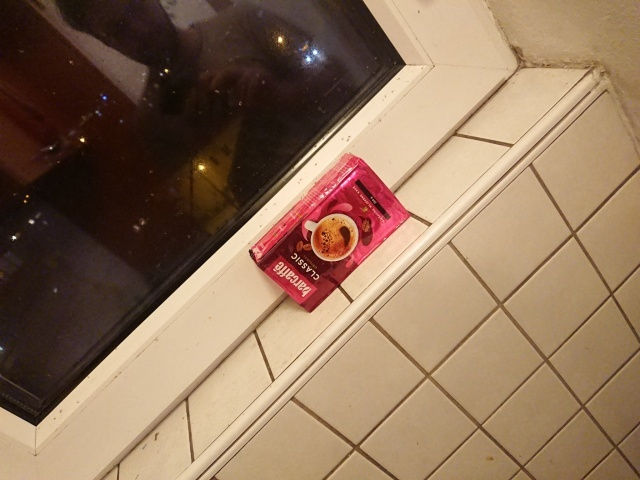Barcaffe Classic Original 225g: (246, 150, 414, 315)
